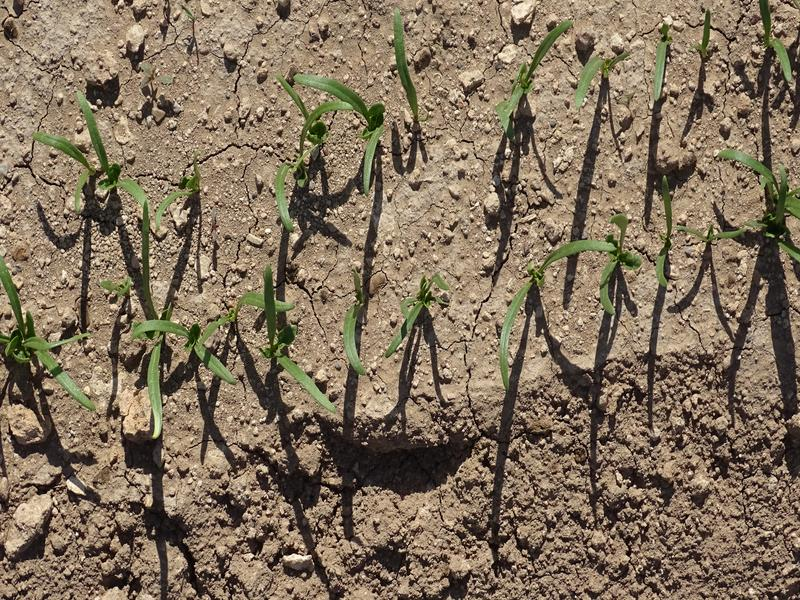Espinaca: (496, 208, 631, 378), (47, 97, 197, 223), (273, 71, 389, 216), (231, 274, 340, 415), (2, 261, 98, 413), (136, 297, 229, 430), (707, 138, 800, 267), (341, 272, 449, 374), (504, 17, 571, 130), (392, 22, 426, 120), (757, 6, 793, 79), (659, 184, 676, 283), (651, 36, 673, 100), (578, 54, 604, 105)
